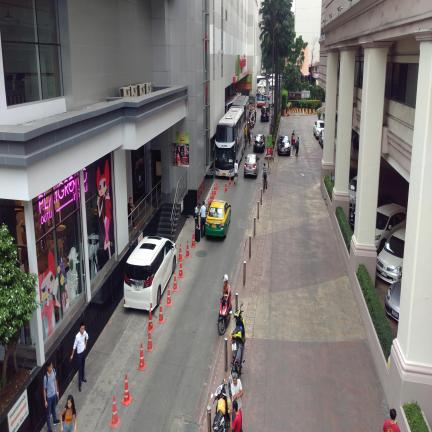bus: (215, 107, 245, 177), (256, 81, 267, 107)
car: (124, 236, 177, 310), (376, 228, 405, 283), (244, 153, 259, 177), (277, 135, 291, 156), (253, 134, 265, 152), (260, 107, 269, 122), (399, 273, 402, 278)
human: (70, 322, 88, 392), (43, 359, 60, 432), (61, 395, 77, 432), (231, 372, 243, 408), (383, 408, 400, 432), (230, 400, 242, 432), (200, 201, 206, 238), (222, 274, 230, 300), (194, 202, 200, 228), (128, 197, 135, 217), (263, 162, 267, 189), (234, 159, 238, 185), (295, 136, 299, 156), (291, 130, 295, 147), (249, 129, 252, 145), (131, 216, 135, 228)
motorbike: (230, 302, 245, 384), (211, 379, 231, 432), (217, 292, 232, 335)
taxi: (205, 200, 231, 238)
